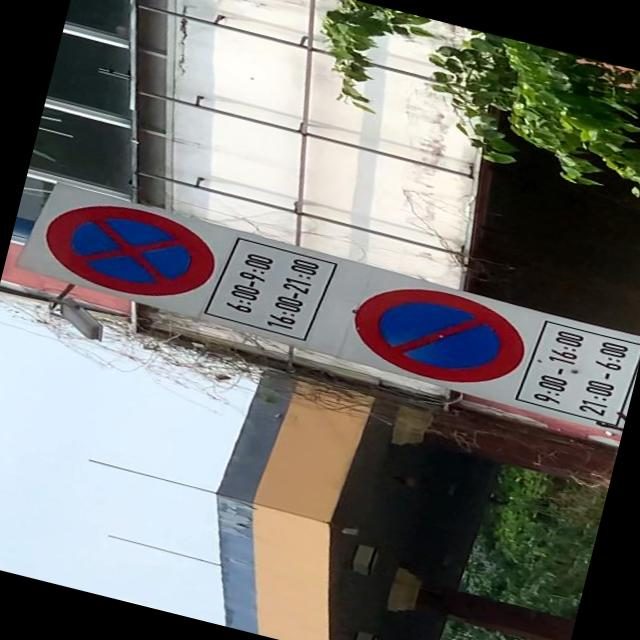P-130: (35, 188, 222, 311)
P-131a: (343, 272, 532, 398)
